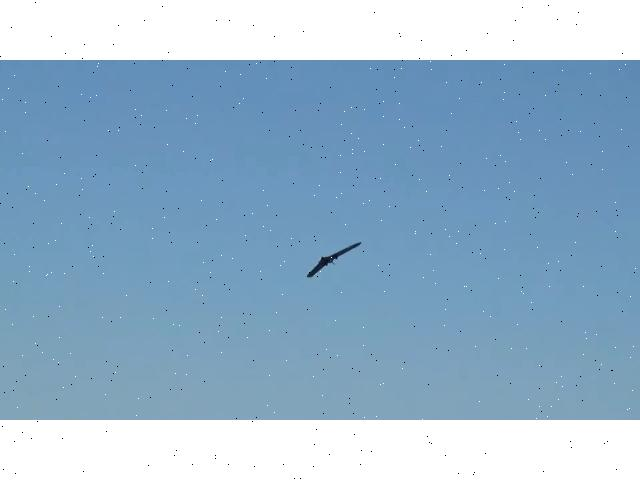Anti-Drone: (298, 229, 368, 285)
